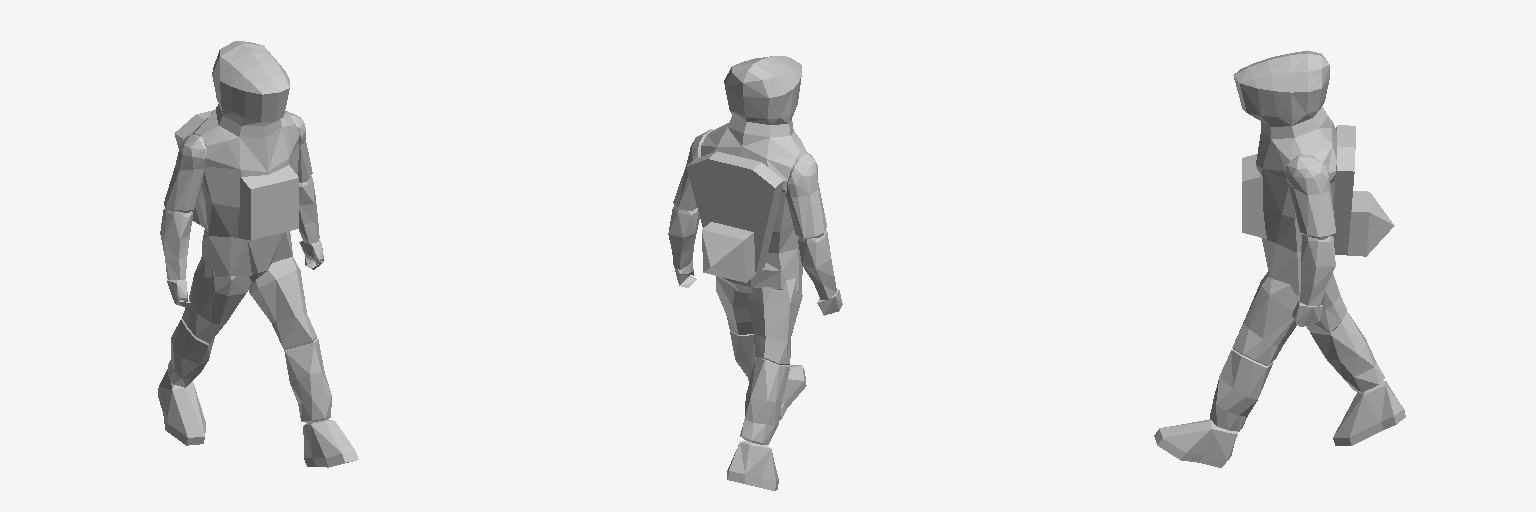
The model's file is playerRoughWalkFrame01.obj.
The picture shows the model from 3 angles: view 1: azimuth 30°, elevation 25°; view 2: azimuth 150°, elevation 25°; view 3: azimuth 270°, elevation 25°; orthographic projection.
Parts seen in each view (by area): view 1: Torso53 Person, Torso53 Person pCube38, Torso53 Person LeftLeg, Torso53 Person RightLeg, Torso53 Person LeftLeg LowerLeg, Torso53 Person RightLeg LowerLeg Foot, Torso53 Person RightArm, Torso53 Person LeftLeg LowerLeg Foot, Torso53 Person RightLeg LowerLeg, Torso53 Person RightArm LowerArm, Torso53 Person LeftArm LowerArm, Torso53 Person LeftArm (+1 smaller); view 2: Torso53 Person, Torso53 Person pCylinder11, Torso53 Person RightLeg, Torso53 Person RightLeg LowerLeg, Torso53 Person RightArm, Torso53 Person RightLeg LowerLeg Foot, Torso53 Person RightArm LowerArm, Torso53 Person LeftArm LowerArm, Torso53 Person LeftLeg, Torso53 Person LeftArm, Torso53 Person LeftLeg LowerLeg, Torso53 Person LeftLeg LowerLeg Foot; view 3: Torso53 Person, Torso53 Person pCylinder11, Torso53 Person LeftLeg, Torso53 Person LeftArm, Torso53 Person LeftLeg LowerLeg, Torso53 Person RightLeg LowerLeg, Torso53 Person LeftLeg LowerLeg Foot, Torso53 Person RightLeg LowerLeg Foot, Torso53 Person LeftArm LowerArm, Torso53 Person pCube38, Torso53 Person RightLeg, Torso53 Person LeftArm LowerArm Hand.
Boxes of the visible parts, <box> form: Torso53 Person: <box>191,41,298,281</box>; Torso53 Person pCube38: <box>238,165,298,240</box>; Torso53 Person LeftLeg: <box>249,257,316,349</box>; Torso53 Person RightLeg: <box>182,255,251,343</box>; Torso53 Person LeftLeg LowerLeg: <box>284,338,331,422</box>; Torso53 Person RightLeg LowerLeg Foot: <box>158,369,205,445</box>; Torso53 Person RightArm: <box>164,135,206,212</box>; Torso53 Person LeftLeg LowerLeg Foot: <box>303,419,358,467</box>; Torso53 Person RightLeg LowerLeg: <box>168,319,214,387</box>; Torso53 Person RightArm LowerArm: <box>160,209,192,279</box>; Torso53 Person LeftArm LowerArm: <box>299,176,319,243</box>; Torso53 Person LeftArm: <box>285,111,312,182</box>; Torso53 Person: <box>701,56,807,293</box>; Torso53 Person pCylinder11: <box>686,151,783,282</box>; Torso53 Person RightLeg: <box>747,277,802,364</box>; Torso53 Person RightLeg LowerLeg: <box>740,359,789,444</box>; Torso53 Person RightArm: <box>786,152,826,238</box>; Torso53 Person RightLeg LowerLeg Foot: <box>727,441,778,490</box>; Torso53 Person RightArm LowerArm: <box>798,230,836,299</box>; Torso53 Person LeftArm LowerArm: <box>668,204,699,269</box>; Torso53 Person LeftLeg: <box>716,276,753,334</box>; Torso53 Person LeftArm: <box>673,129,712,210</box>; Torso53 Person LeftLeg LowerLeg: <box>730,330,754,381</box>; Torso53 Person LeftLeg LowerLeg Foot: <box>780,365,806,419</box>; Torso53 Person: <box>1233,50,1336,295</box>; Torso53 Person pCylinder11: <box>1332,125,1394,256</box>; Torso53 Person LeftLeg: <box>1232,272,1299,365</box>; Torso53 Person LeftArm: <box>1285,155,1335,239</box>; Torso53 Person LeftLeg LowerLeg: <box>1210,350,1273,431</box>; Torso53 Person RightLeg LowerLeg: <box>1310,312,1384,391</box>; Torso53 Person LeftLeg LowerLeg Foot: <box>1154,419,1237,467</box>; Torso53 Person RightLeg LowerLeg Foot: <box>1333,381,1405,445</box>; Torso53 Person LeftArm LowerArm: <box>1299,235,1335,306</box>; Torso53 Person pCube38: <box>1242,154,1266,238</box>; Torso53 Person RightLeg: <box>1306,274,1346,334</box>; Torso53 Person LeftArm LowerArm Hand: <box>1292,301,1323,326</box>.
Bounding box in the file's own units: 2.21 × 5.44 × 3.07.